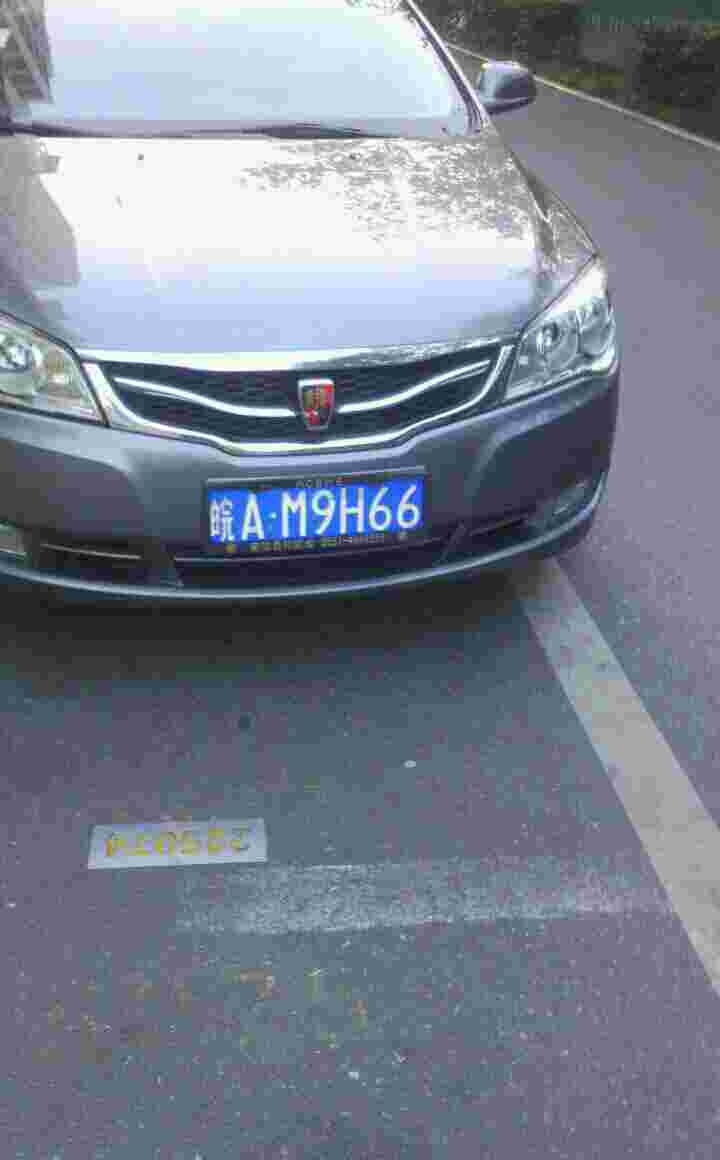license_plate: (198, 470, 434, 552)
